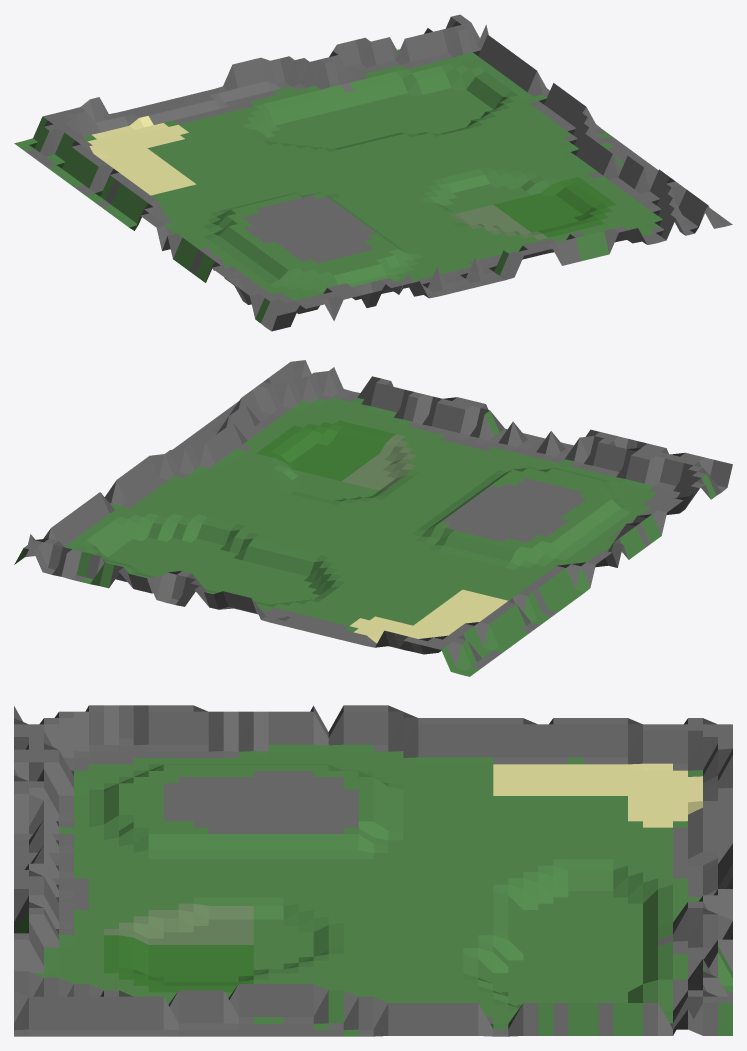
File: chunk1.fbx
The picture shows the model from 3 angles, top to bottom: view 1: azimuth 30°, elevation 25°; view 2: azimuth 150°, elevation 25°; view 3: azimuth 270°, elevation 25°; orthographic projection. The views are drawn at different scales.
Visible parts, largest first — view 1: Grid.007, Grid.001, Grid.002, Grid.008, Grid, Grid.006, Grid.004, Grid.003, Grid.005; view 2: Grid.006, Grid.004, Grid.008, Grid.005, Grid.003, Grid.007, Grid.002, Grid, Grid.001; view 3: Grid.004, Grid.003, Grid.002, Grid, Grid.005, Grid.001, Grid.006, Grid.008, Grid.007.
Part boxes in pixels (x1,y1,x2,y2): Grid.007: [329, 14, 549, 135]; Grid.001: [166, 56, 404, 170]; Grid.002: [14, 97, 253, 207]; Grid.008: [406, 83, 644, 204]; Grid: [254, 133, 492, 225]; Grid.006: [494, 150, 732, 261]; Grid.004: [189, 225, 428, 331]; Grid.003: [102, 170, 340, 270]; Grid.005: [341, 204, 580, 298]; Grid.006: [190, 360, 423, 481]; Grid.004: [493, 429, 732, 547]; Grid.008: [105, 426, 340, 545]; Grid.005: [341, 394, 573, 502]; Grid.003: [406, 502, 644, 612]; Grid.007: [14, 492, 253, 602]; Grid.002: [318, 575, 556, 676]; Grid: [254, 481, 492, 575]; Grid.001: [166, 538, 404, 634]; Grid.004: [14, 705, 253, 833]; Grid.003: [253, 705, 493, 833]; Grid.002: [493, 718, 732, 833]; Grid: [253, 821, 493, 944]; Grid.005: [14, 820, 253, 944]; Grid.001: [493, 826, 732, 954]; Grid.006: [14, 908, 253, 1036]; Grid.008: [253, 935, 493, 1036]; Grid.007: [493, 908, 732, 1036].
Size of the model in its own units: 4800 by 396 by 4800.
